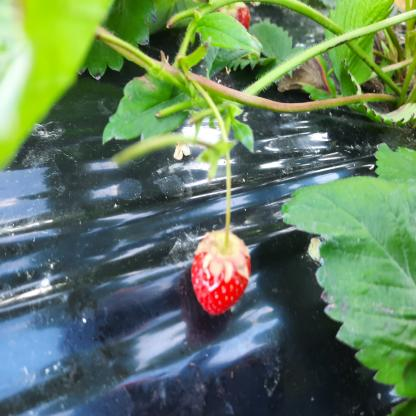ripe: (192, 236, 248, 313)
